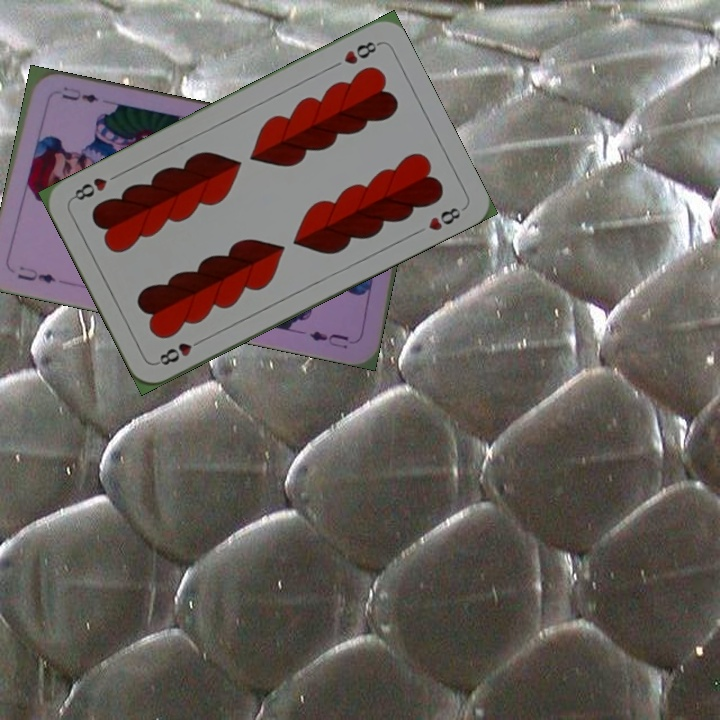EU: (13, 262, 59, 286)
H8: (152, 333, 207, 368), (339, 37, 382, 67)
